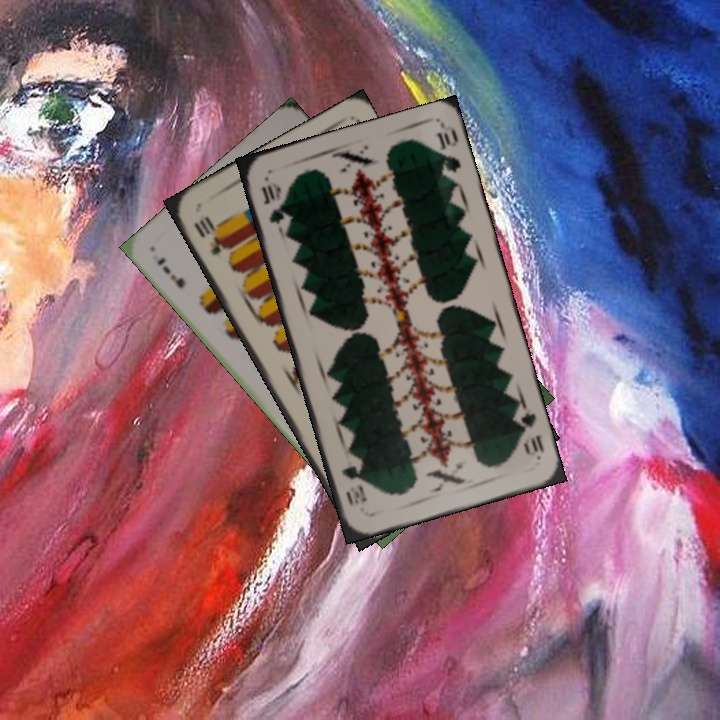E10: (190, 211, 233, 261)
E7: (153, 253, 188, 291)
G10: (510, 405, 547, 461), (258, 179, 287, 227)
